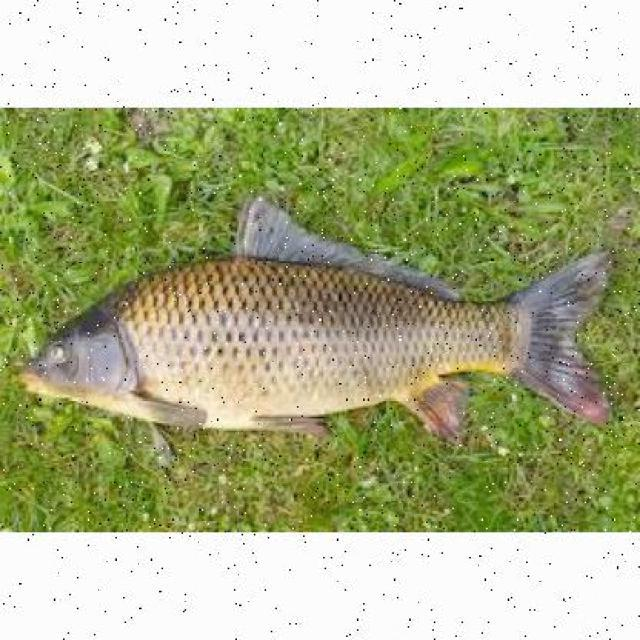ikan-mas: (21, 205, 614, 453)
